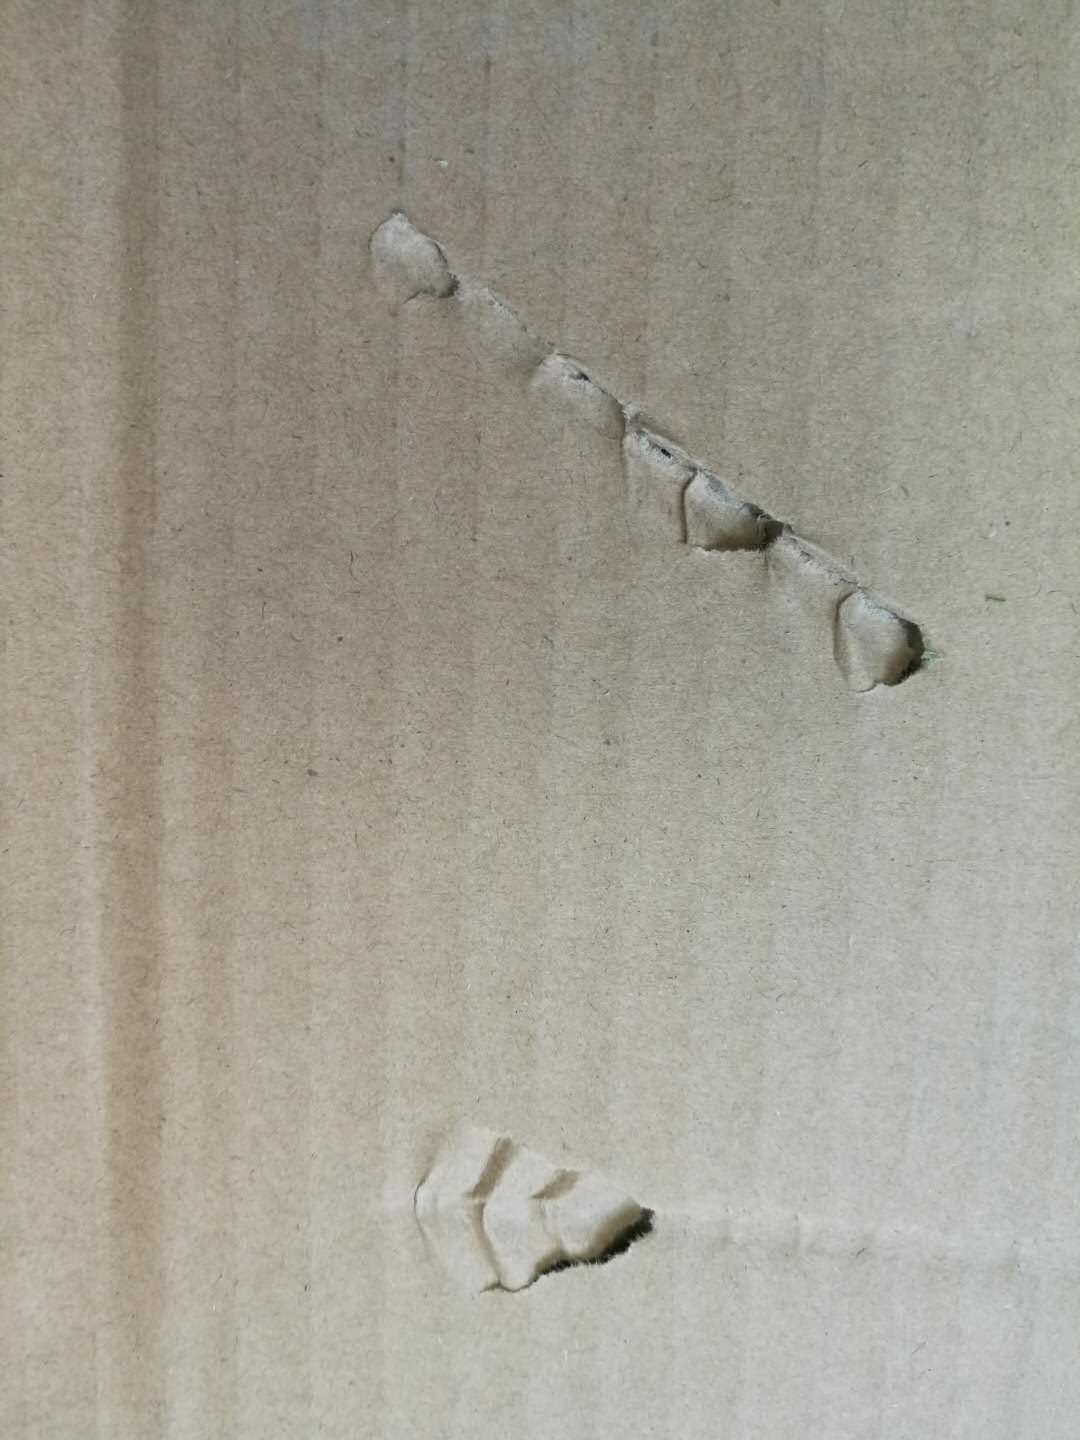defect: (349, 181, 982, 732), (48, 1, 254, 1440), (351, 1098, 1080, 1331)
